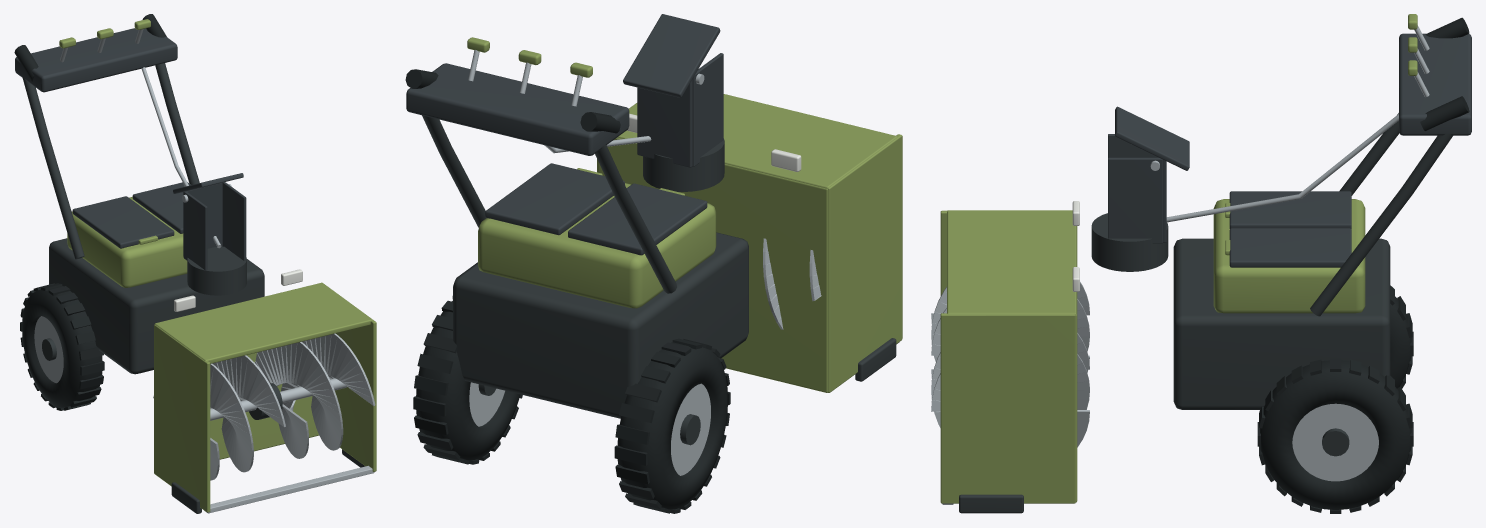
Rendered from garage-snow-blower.glb.
3 views of the same model, side by side, from view 1: azimuth 30°, elevation 25°; view 2: azimuth 150°, elevation 25°; view 3: azimuth 270°, elevation 25° (orthographic). The views are drawn at different scales.
Visible parts, largest first — view 1: catalog_surface_RealismUV; view 2: catalog_surface_RealismUV; view 3: catalog_surface_RealismUV.
Boxes of the visible parts, x1=… form: catalog_surface_RealismUV: x1=14, y1=14, x2=376, y2=513; catalog_surface_RealismUV: x1=405, y1=14, x2=902, y2=513; catalog_surface_RealismUV: x1=931, y1=14, x2=1471, y2=513.
Bounding box in the file's own units: 0.65 × 1.16 × 1.35.
